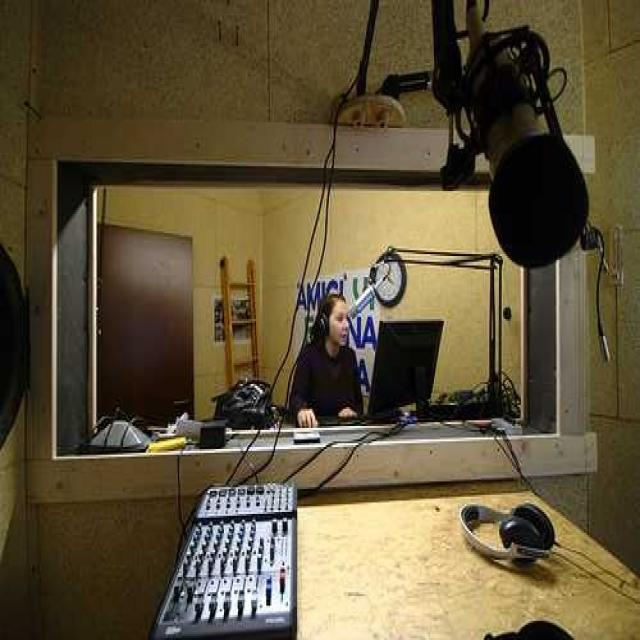microphone: (443, 4, 588, 270), (345, 272, 385, 325)
